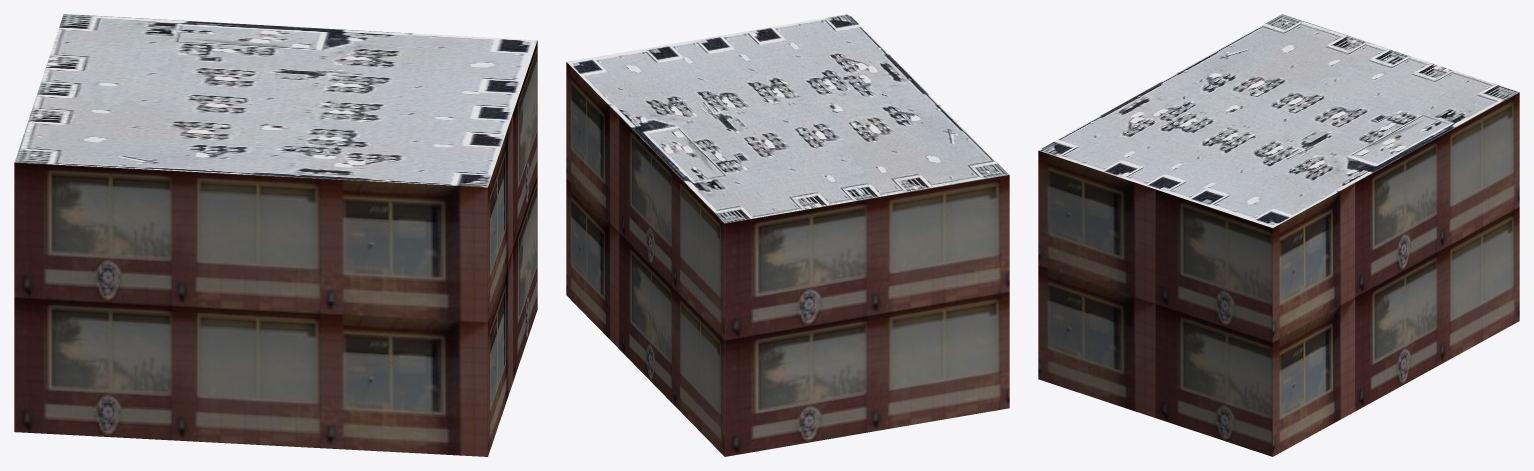
Rendered from ResTex__3182.fbx.
3 views of the same model, side by side, from view 1: azimuth 30°, elevation 25°; view 2: azimuth 150°, elevation 25°; view 3: azimuth 270°, elevation 25° (orthographic). The views are drawn at different scales.
Visible parts, largest first — view 1: CityEngineMaterial_13_m, CityEngineMaterial_8_m; view 2: CityEngineMaterial_13_m, CityEngineMaterial_8_m; view 3: CityEngineMaterial_13_m, CityEngineMaterial_8_m.
Part boxes in pixels (x1,y1,x2,y2): CityEngineMaterial_13_m: (14,40,537,456); CityEngineMaterial_8_m: (14,14,537,187); CityEngineMaterial_13_m: (566,62,1009,456); CityEngineMaterial_8_m: (567,14,1009,223); CityEngineMaterial_13_m: (1038,92,1519,456); CityEngineMaterial_8_m: (1038,14,1519,227).
Bounding box in the file's own units: 12.05 × 6 × 11.44.
2 materials, 2 textured.
